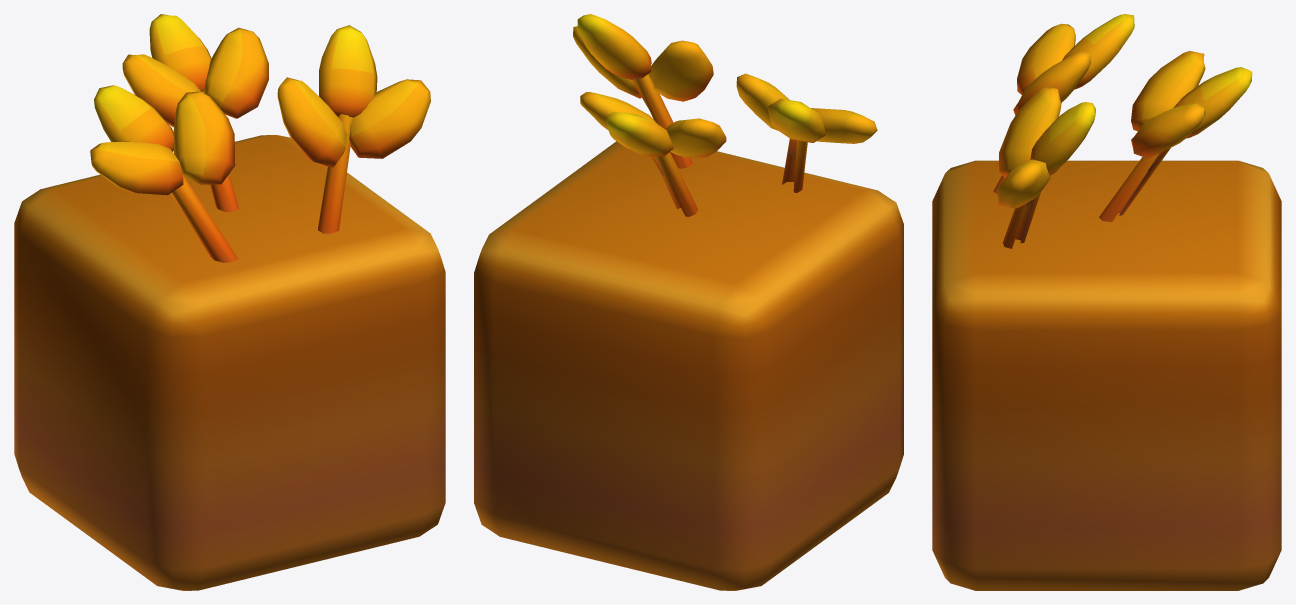
Rendered from wheat_block.fbx.
3 renders of one model, left to right at view 1: azimuth 30°, elevation 25°; view 2: azimuth 150°, elevation 25°; view 3: azimuth 270°, elevation 25°, orthographic. The views are drawn at different scales.
Visible parts, largest first — view 1: Cube.006; view 2: Cube.006; view 3: Cube.006.
Boxes of the visible parts, <box> form: Cube.006: <box>14,14,445,590</box>; Cube.006: <box>474,14,903,590</box>; Cube.006: <box>932,14,1281,590</box>.
Bounding box in the file's own units: 12472 × 17501 × 11491.
